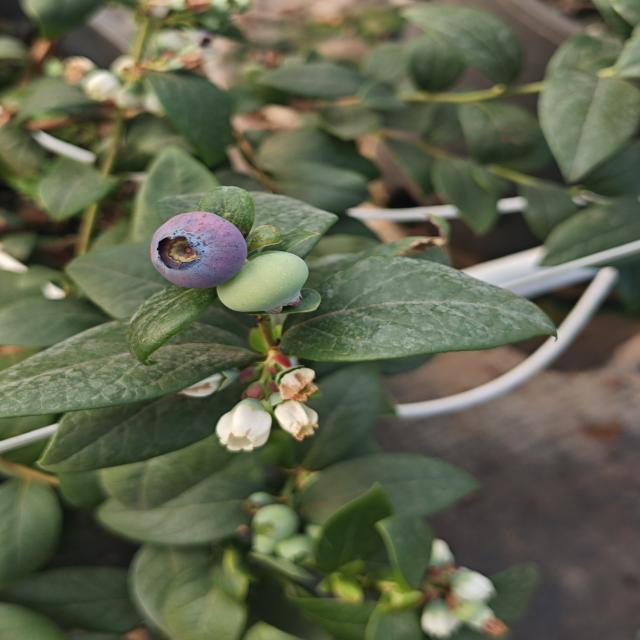ripe: (142, 203, 246, 287)
